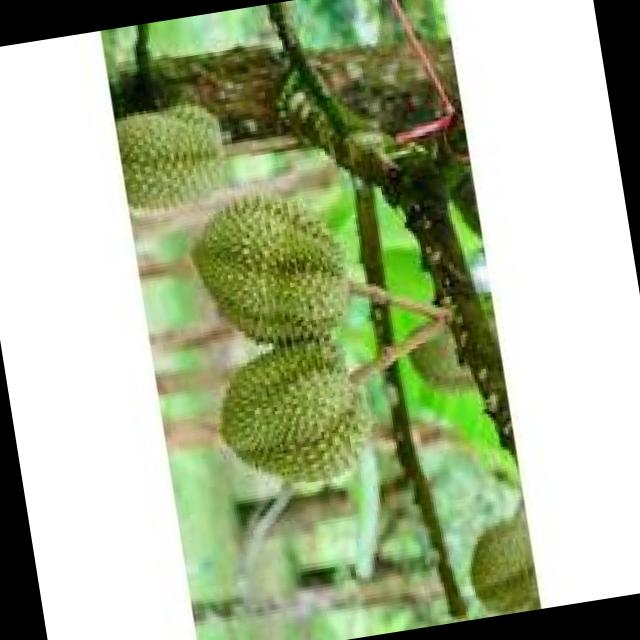fruit: (171, 170, 373, 364), (200, 322, 394, 506)
